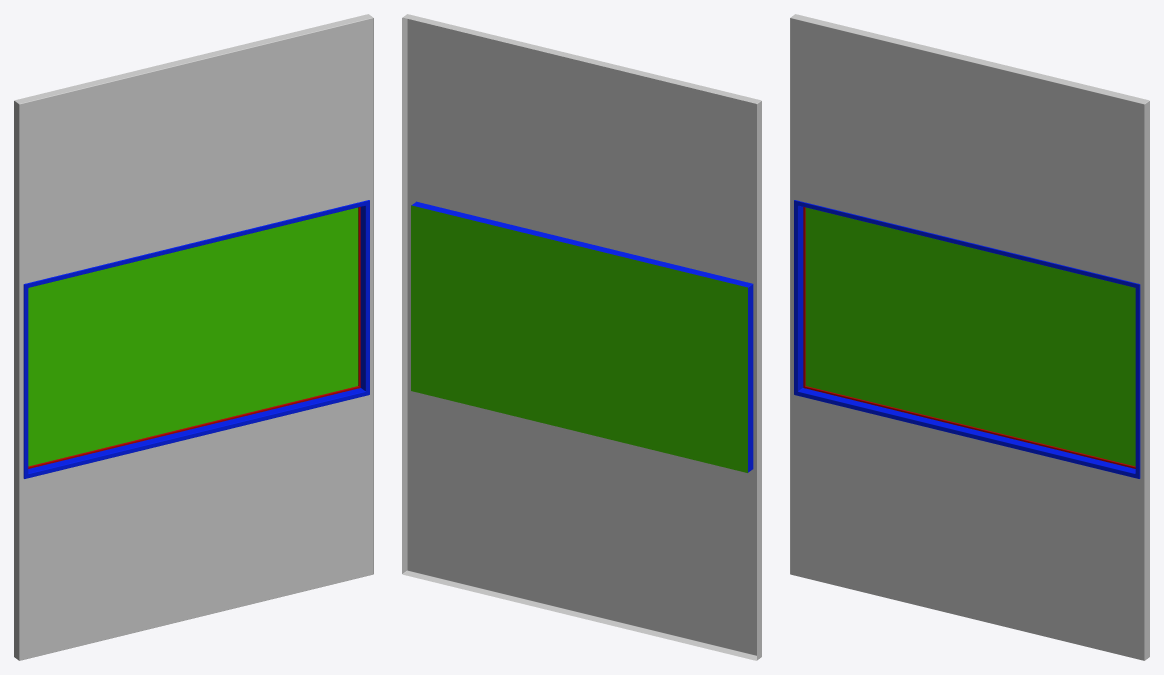
Rendered from Wall03bWindow.fbx.
3 views of the same model, side by side, from view 1: azimuth 30°, elevation 25°; view 2: azimuth 150°, elevation 25°; view 3: azimuth 330°, elevation 25° (orthographic).
Parts seen in each view (by area): view 1: Wall03bWindow; view 2: Wall03bWindow; view 3: Wall03bWindow.
Part boxes in pixels (left/top/right/bottom): Wall03bWindow: left=14, top=14, right=373, bottom=660; Wall03bWindow: left=402, top=14, right=761, bottom=660; Wall03bWindow: left=790, top=14, right=1149, bottom=660.
Bounding box in the file's own units: 200 × 300 × 5.5.
